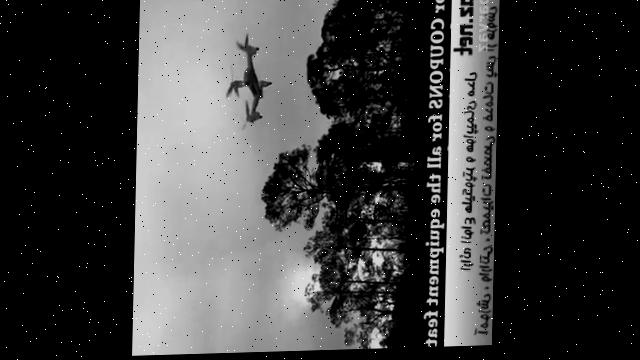drone: (222, 30, 275, 135)
